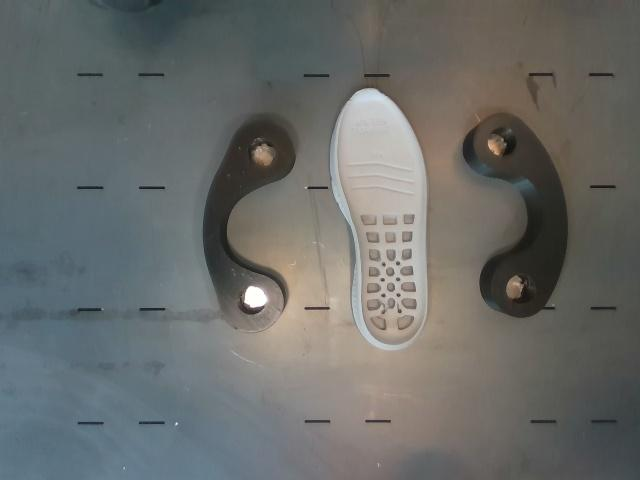shoes: (337, 90, 427, 346)
